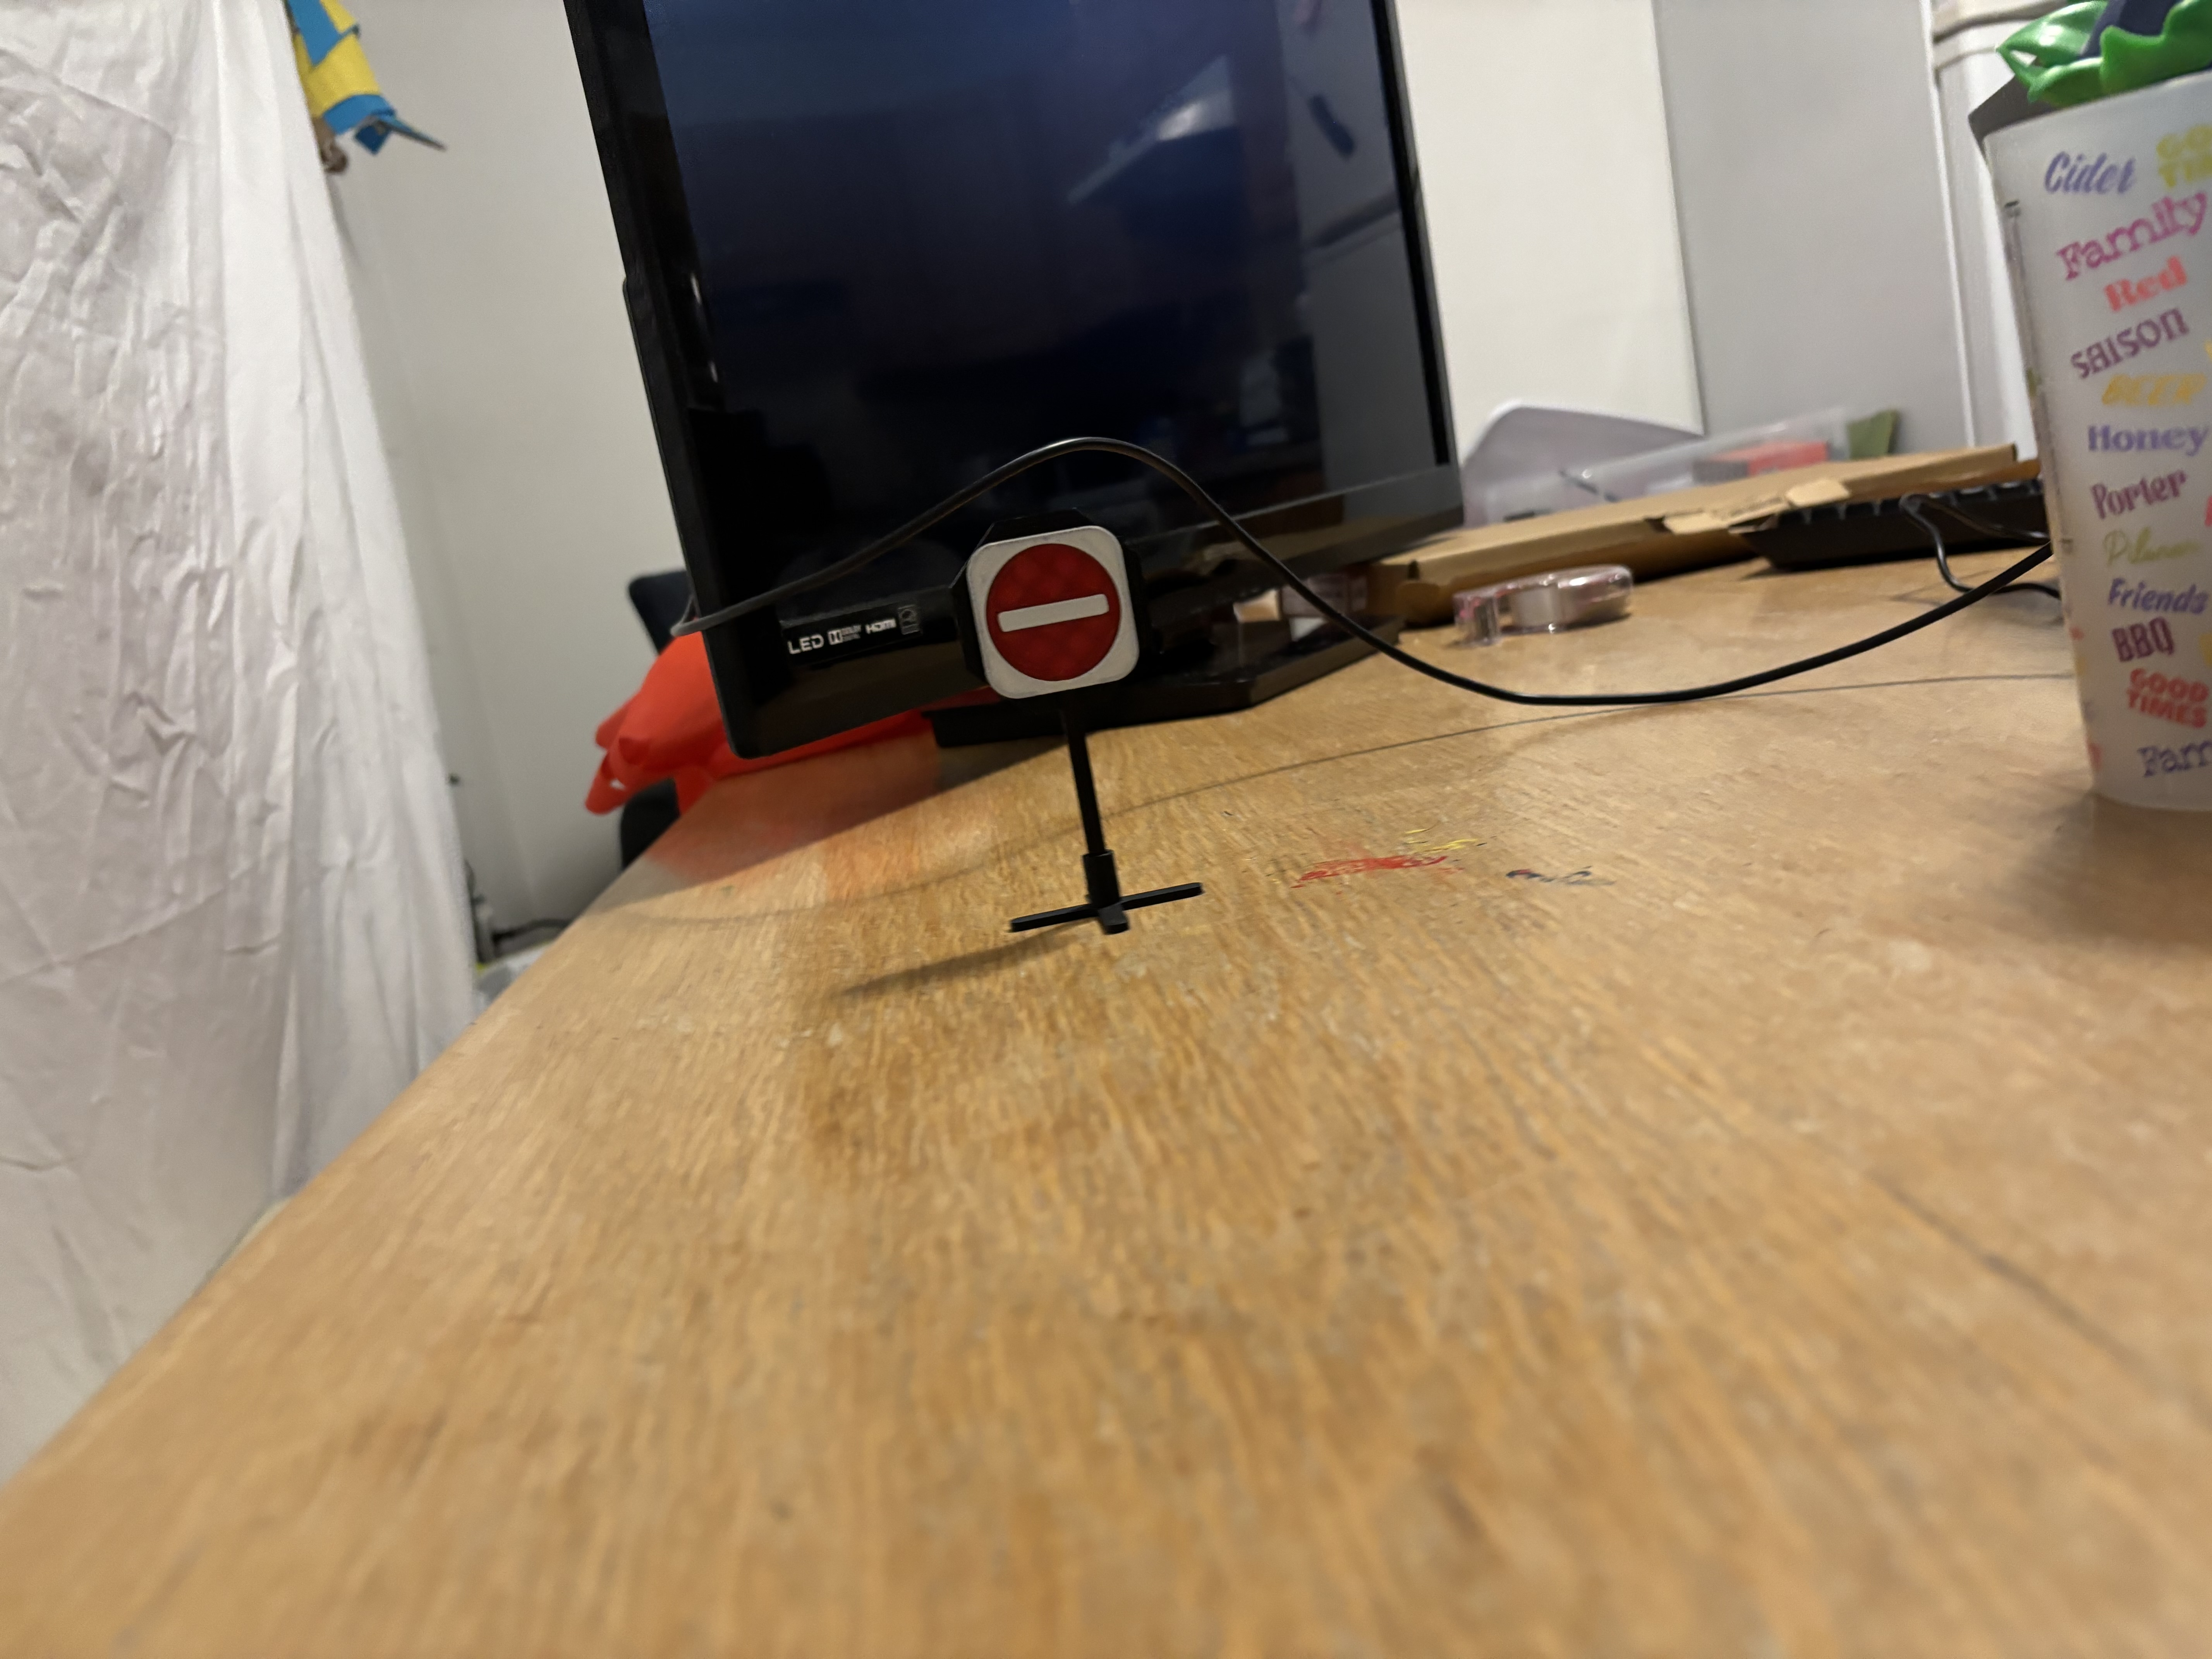sign_noentry: (960, 518, 1146, 697)
